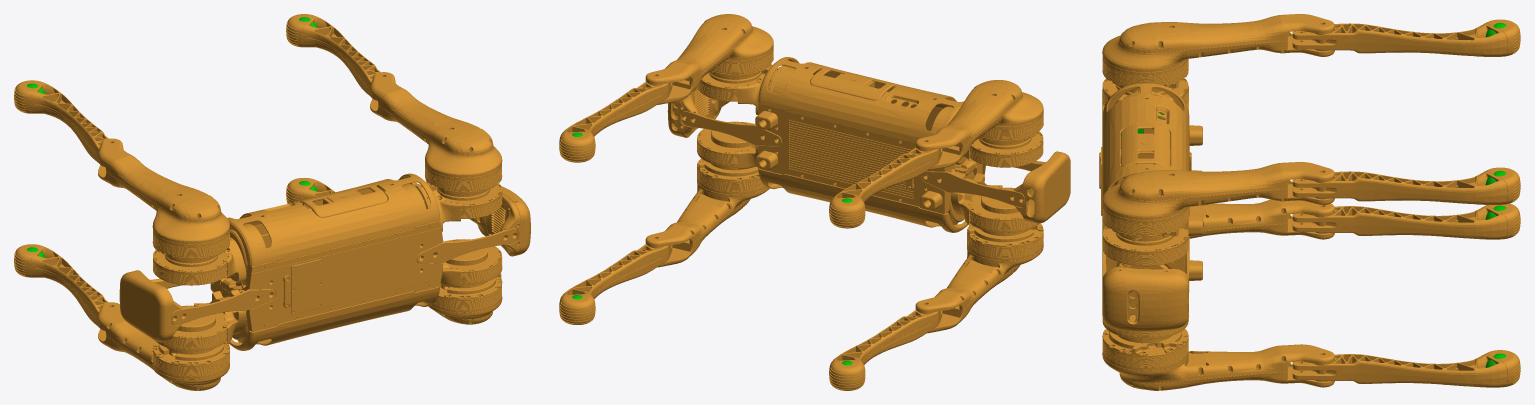
File: unitree-b1.glb
The picture shows the model from 3 angles, left to right: view 1: azimuth 30°, elevation 25°; view 2: azimuth 150°, elevation 25°; view 3: azimuth 270°, elevation 25°; orthographic projection. The views are drawn at different scales.
Parts seen in each view (by area): view 1: trunk, RL_thigh, FL_thigh, RR_thigh, FL_calf, RL_calf, RR_calf, RR_hip, RL_hip, FR_thigh, FR_hip, FL_hip (+1 smaller); view 2: trunk, RL_thigh, FL_thigh, RR_thigh, FR_thigh, RL_calf, FL_calf, RR_calf, FR_calf, RR_hip, FR_hip, RL_hip (+1 smaller); view 3: trunk, FL_thigh, RL_thigh, FR_thigh, RL_calf, FL_calf, FR_calf, RR_calf, RR_thigh, FL_hip, RL_hip, FR_hip.
Boxes of the visible parts, box(x1,y1,x2,y2) form: trunk: box(119, 173, 530, 350); RL_thigh: box(98, 138, 229, 263); FL_thigh: box(370, 72, 502, 196); RR_thigh: box(98, 302, 229, 390); FL_calf: box(286, 14, 396, 100); RL_calf: box(14, 80, 125, 167); RR_calf: box(14, 244, 108, 331); RR_hip: box(156, 291, 246, 351); RL_hip: box(153, 237, 246, 285); FR_thigh: box(428, 273, 502, 324); FR_hip: box(440, 239, 502, 287); FL_hip: box(426, 181, 502, 231); trunk: box(667, 57, 1070, 232); RL_thigh: box(915, 80, 1043, 170); FL_thigh: box(645, 14, 773, 104); RR_thigh: box(915, 223, 1043, 333); FR_thigh: box(645, 158, 769, 267); RL_calf: box(829, 147, 942, 228); FL_calf: box(559, 81, 672, 162); RR_calf: box(829, 310, 942, 390); FR_calf: box(559, 244, 672, 324); RR_hip: box(951, 173, 1039, 232); FR_hip: box(697, 121, 764, 170); RL_hip: box(956, 131, 1043, 167); trunk: box(1099, 83, 1202, 331); FL_thigh: box(1102, 162, 1334, 241); RL_thigh: box(1102, 14, 1334, 92); FR_thigh: box(1102, 329, 1334, 390); RL_calf: box(1292, 19, 1520, 56); FL_calf: box(1292, 167, 1520, 204); FR_calf: box(1292, 350, 1520, 387); RR_calf: box(1292, 203, 1520, 239); RR_thigh: box(1189, 199, 1334, 239); FL_hip: box(1102, 226, 1188, 266); RL_hip: box(1102, 78, 1188, 105); FR_hip: box(1102, 268, 1188, 339).
Bounding box in the file's own units: 0.9745 × 0.4615 × 0.8315.
